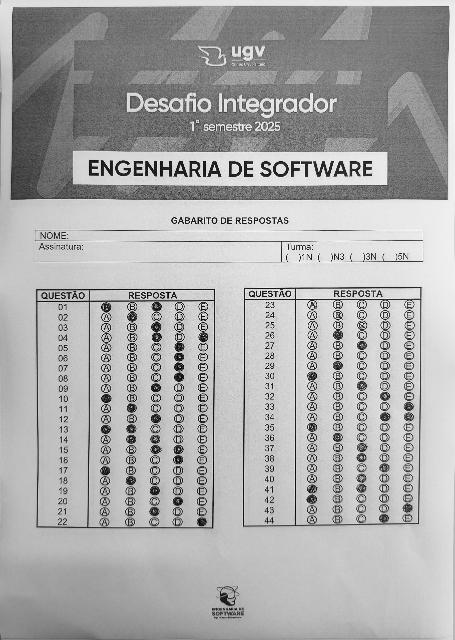bolinha: (304, 370, 324, 382), (169, 360, 189, 370), (172, 342, 189, 352), (149, 322, 165, 332), (148, 506, 164, 516), (378, 513, 394, 523), (356, 474, 371, 484), (172, 353, 188, 362), (404, 411, 416, 423), (358, 441, 370, 453), (150, 332, 164, 342), (101, 393, 115, 403), (149, 414, 163, 424), (172, 455, 186, 465), (148, 485, 162, 495), (403, 402, 417, 412), (306, 422, 320, 432), (380, 391, 392, 402), (380, 412, 393, 422), (357, 484, 370, 494), (305, 486, 321, 494), (150, 302, 162, 312), (126, 312, 138, 322), (173, 372, 185, 382), (126, 404, 138, 414), (100, 424, 112, 434), (150, 444, 162, 454), (100, 465, 112, 475), (172, 496, 184, 506), (332, 330, 344, 340), (356, 340, 368, 350), (332, 359, 344, 369), (356, 381, 368, 391), (358, 453, 370, 463), (125, 424, 139, 432), (333, 434, 347, 442), (198, 331, 209, 341), (102, 303, 112, 313), (404, 504, 414, 514), (151, 384, 163, 392), (172, 446, 184, 454), (125, 477, 137, 485), (196, 518, 208, 526), (380, 464, 392, 472), (125, 435, 136, 443), (150, 435, 160, 443), (306, 496, 318, 502)
